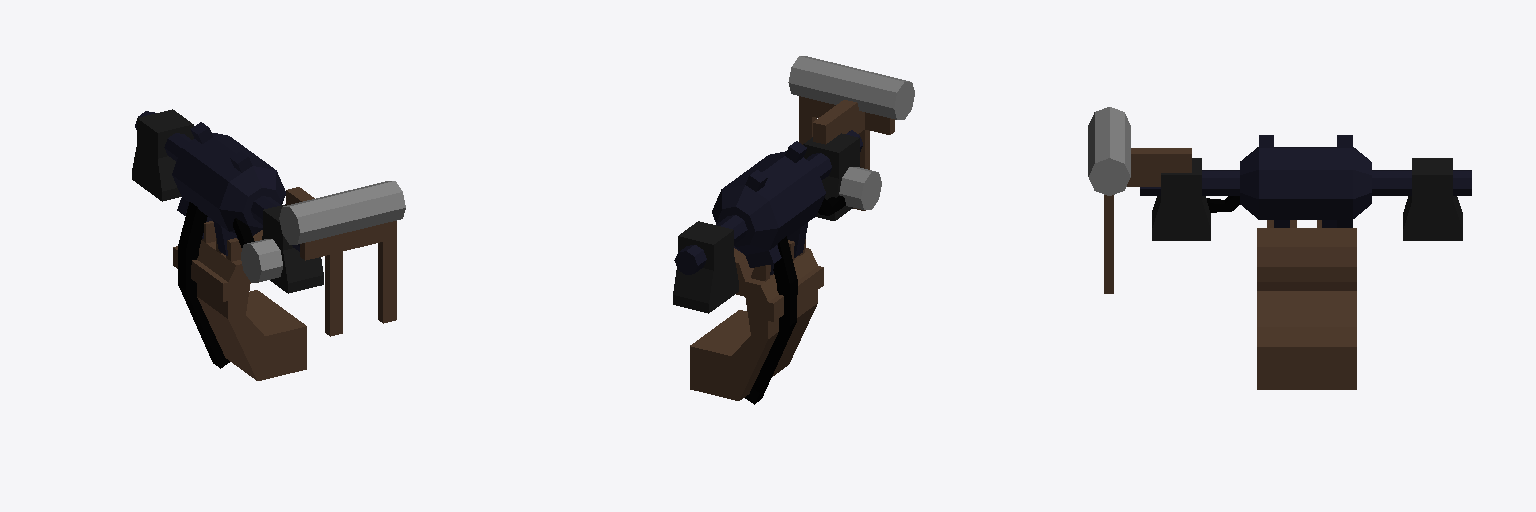
File: bogie_base.obj
3 renders of one model, left to right at view 1: azimuth 30°, elevation 25°; view 2: azimuth 150°, elevation 25°; view 3: azimuth 270°, elevation 25°, orthographic.
Visible parts, largest first — view 1: Support_立方体.001, Motor_柱体, Gearbox_立方体.002, FwdSupport_立方体.003, SensorB_柱体.003, Cable_立方体.005, SensorA_柱体.002; view 2: Motor_柱体, Support_立方体.001, Gearbox_立方体.002, SensorB_柱体.003, FwdSupport_立方体.003, Cable_立方体.005, SensorA_柱体.002; view 3: Support_立方体.001, Motor_柱体, Gearbox_立方体.002, SensorB_柱体.003, FwdSupport_立方体.003.
Boxes of the visible parts, x1=… form: Support_立方体.001: x1=173, y1=221, x2=306, y2=380; Motor_柱体: x1=135, y1=111, x2=299, y2=255; Gearbox_立方体.002: x1=132, y1=109, x2=323, y2=293; FwdSupport_立方体.003: x1=286, y1=187, x2=396, y2=336; SensorB_柱体.003: x1=279, y1=181, x2=405, y2=244; Cable_立方体.005: x1=178, y1=202, x2=254, y2=368; SensorA_柱体.002: x1=241, y1=239, x2=282, y2=282; Motor_柱体: x1=674, y1=130, x2=862, y2=274; Support_立方体.001: x1=690, y1=239, x2=823, y2=400; Gearbox_立方体.002: x1=673, y1=133, x2=860, y2=313; SensorB_柱体.003: x1=788, y1=56, x2=914, y2=119; FwdSupport_立方体.003: x1=799, y1=96, x2=894, y2=210; Cable_立方体.005: x1=745, y1=196, x2=845, y2=404; SensorA_柱体.002: x1=839, y1=167, x2=881, y2=209; Support_立方体.001: x1=1257, y1=220, x2=1356, y2=389; Motor_柱体: x1=1140, y1=135, x2=1471, y2=227; Gearbox_立方体.002: x1=1152, y1=158, x2=1462, y2=240; SensorB_柱体.003: x1=1088, y1=107, x2=1130, y2=195; FwdSupport_立方体.003: x1=1104, y1=148, x2=1191, y2=293.
Size of the model in its own units: 1.01 by 2.2 by 3.08.